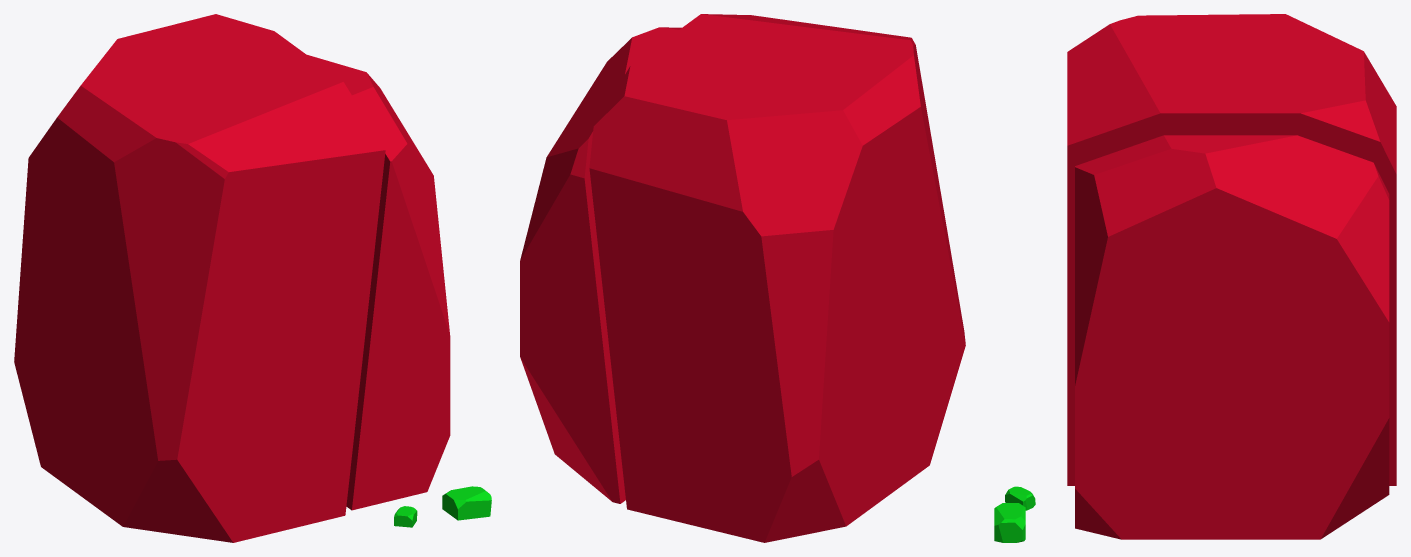
File: Rock_6.fbx
3 views of the same model, side by side, from view 1: azimuth 30°, elevation 25°; view 2: azimuth 150°, elevation 25°; view 3: azimuth 270°, elevation 25° (orthographic). The views are drawn at different scales.
Visible parts, largest first — view 1: Rock_6; view 2: Rock_6; view 3: Rock_6.
Part boxes in pixels (x1,y1,x2,y2): Rock_6: (14, 14, 491, 542); Rock_6: (520, 14, 965, 542); Rock_6: (994, 14, 1396, 542).
Size of the model in its own units: 123 by 159 by 146.
